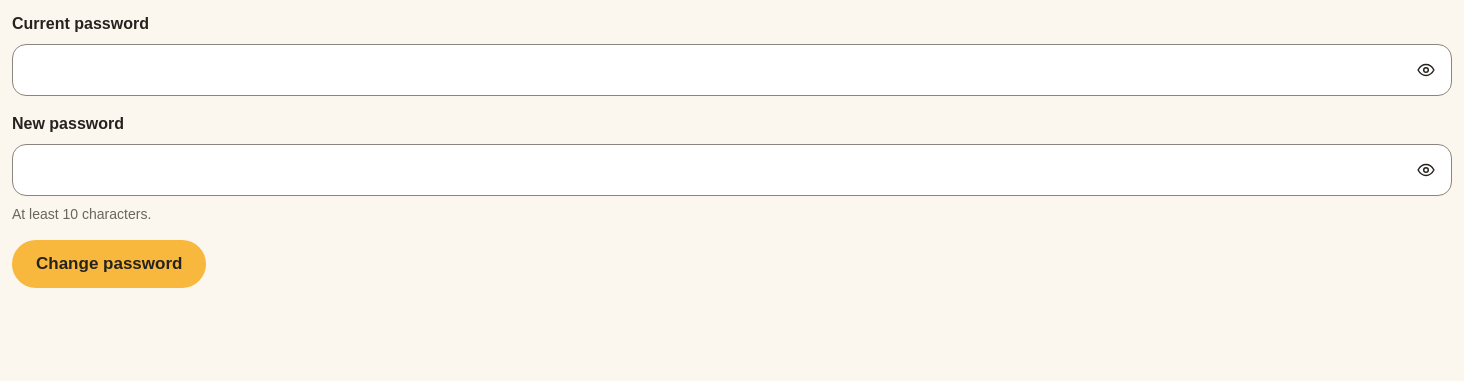
Test: ChangePasswordForm › a tooManyAttempts refusal focuses its notice
The image size is (1464, 381).
Step 1. Type "old-password" into the password field labelled "Current password" → [732, 70], box [12,44,1452,96]
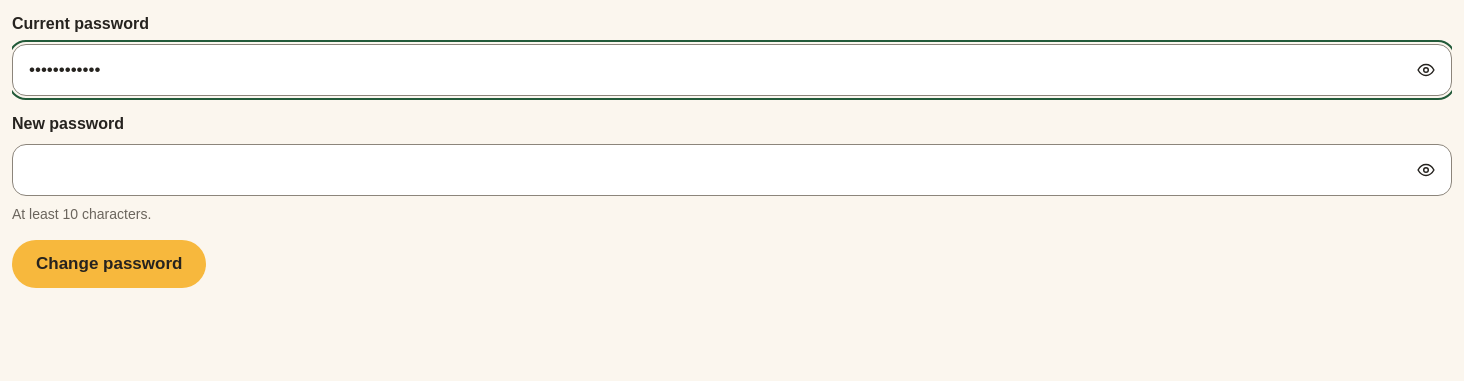
Step 2. Type "new-password-1" into the password field labelled "New password" → [732, 170], box [12,144,1452,196]
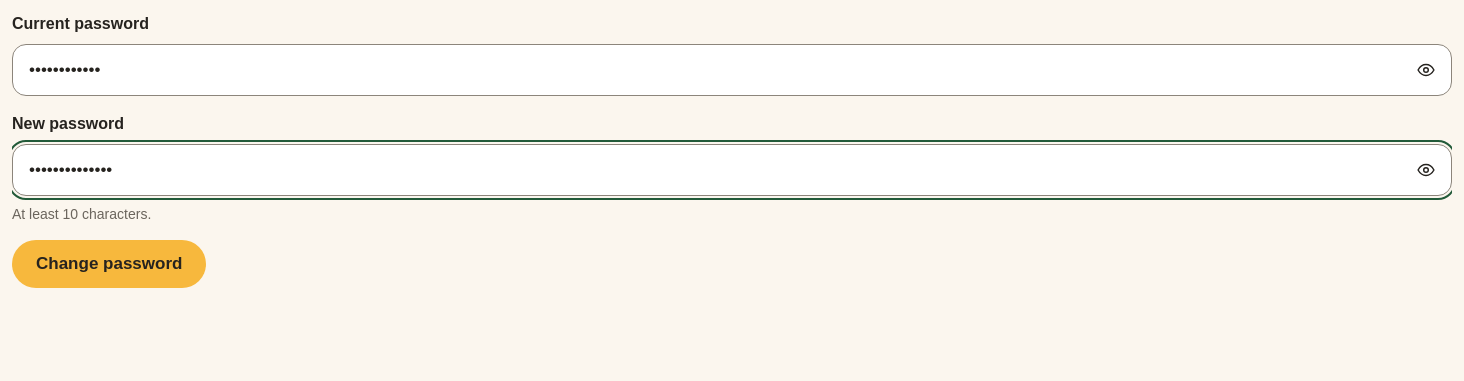
Step 3. Click the button "Change password" → [109, 264], box [12,240,206,288]
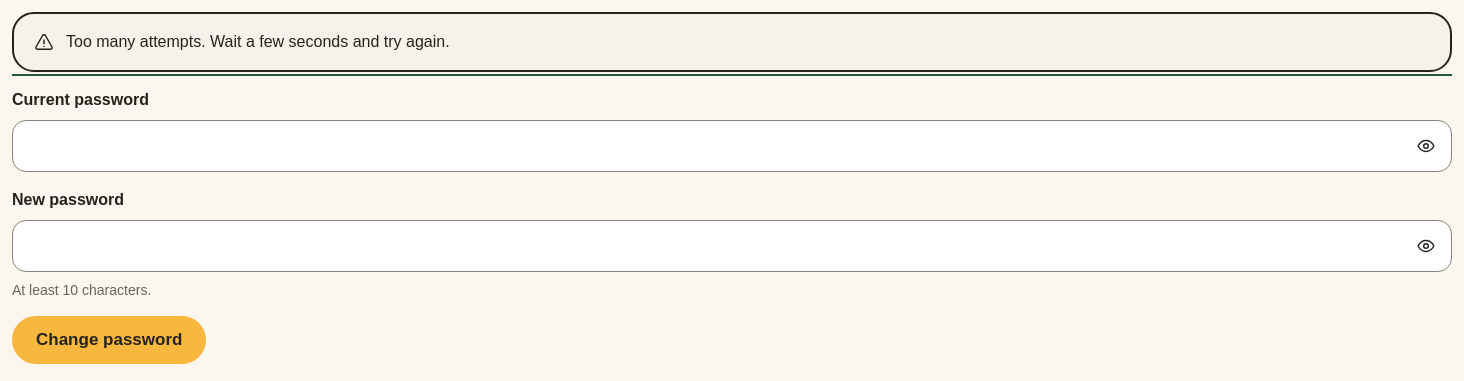
expect the text "Too many attempts. Wait a few seconds and try again." is shown: met, box [66,33,450,50]
